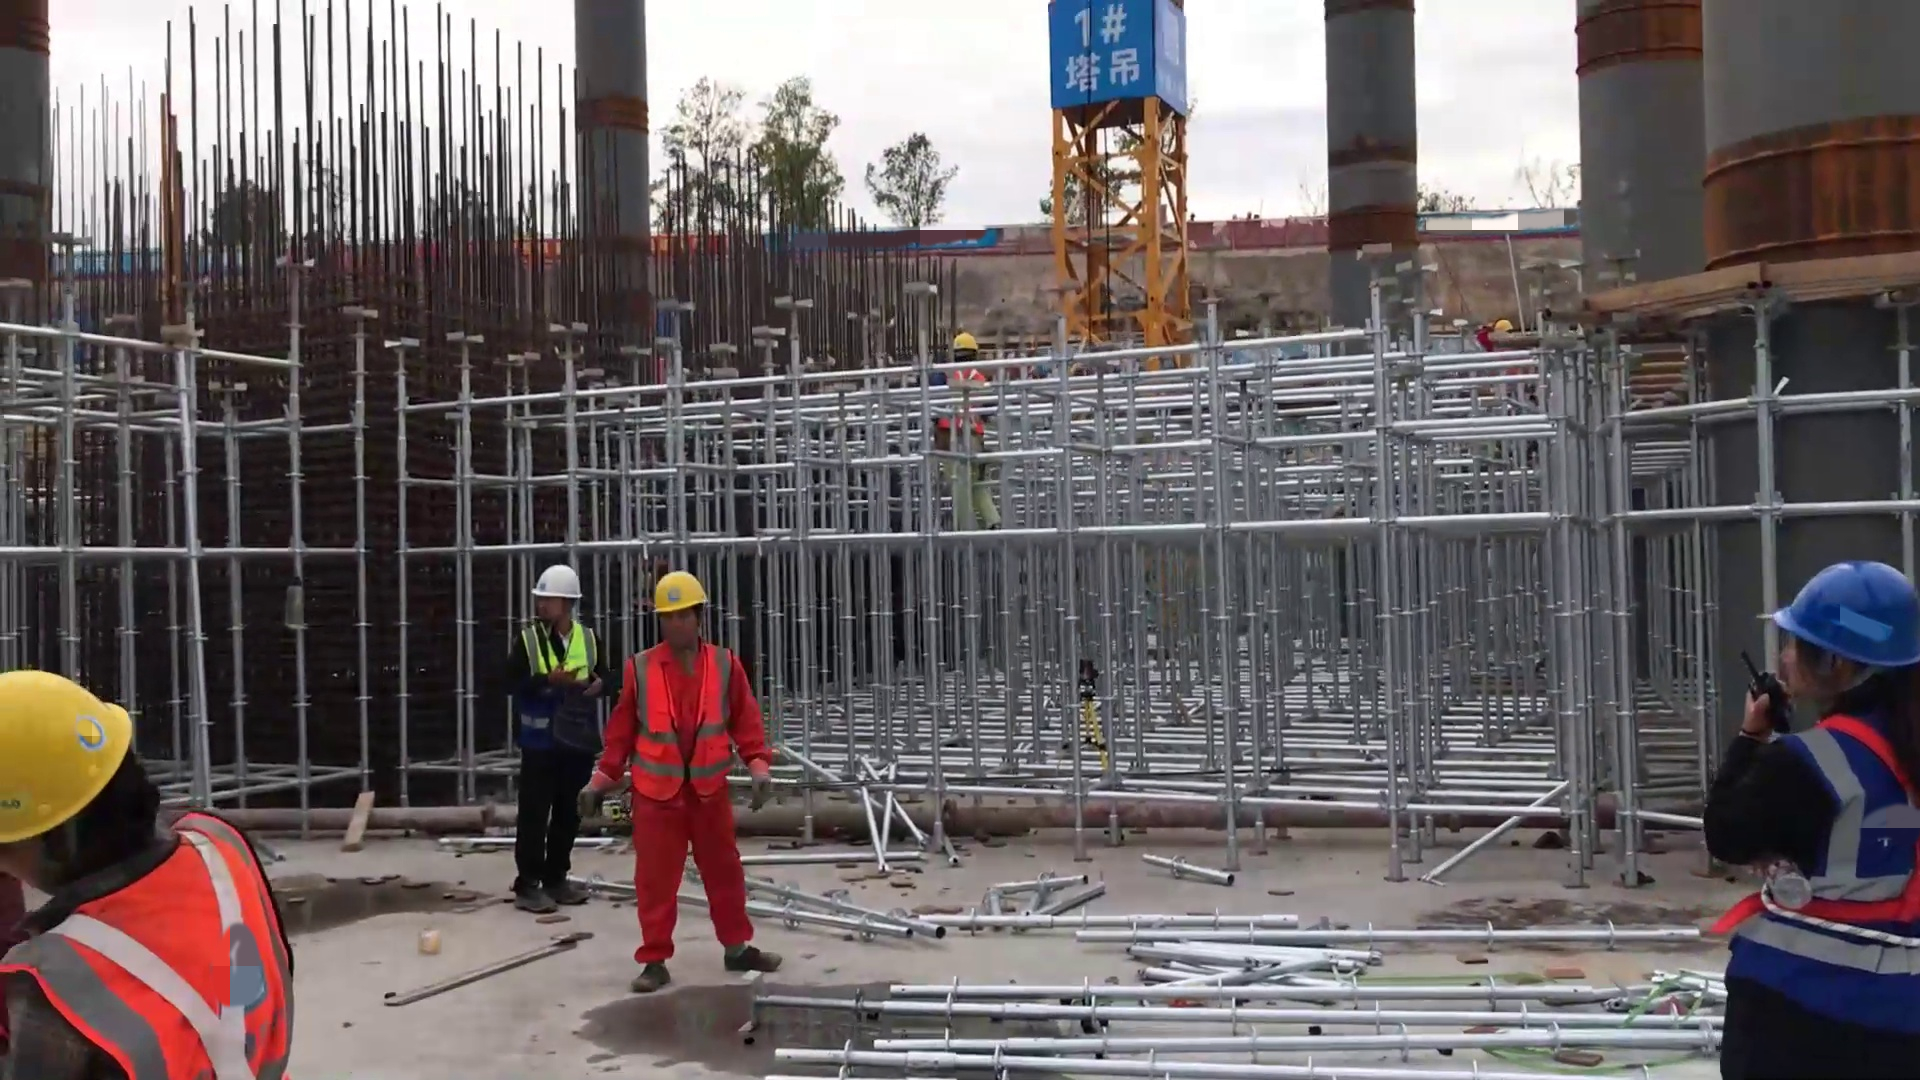helmet: (1, 667, 134, 846), (1772, 561, 1920, 665), (652, 570, 711, 616), (534, 565, 583, 603), (953, 329, 981, 354)
person: (1, 664, 315, 1078), (1719, 557, 1920, 1079), (592, 563, 793, 998), (500, 560, 617, 930), (936, 327, 1000, 526)
vest: (12, 822, 275, 1079), (1733, 718, 1920, 1029), (630, 635, 737, 808), (518, 622, 610, 759)
